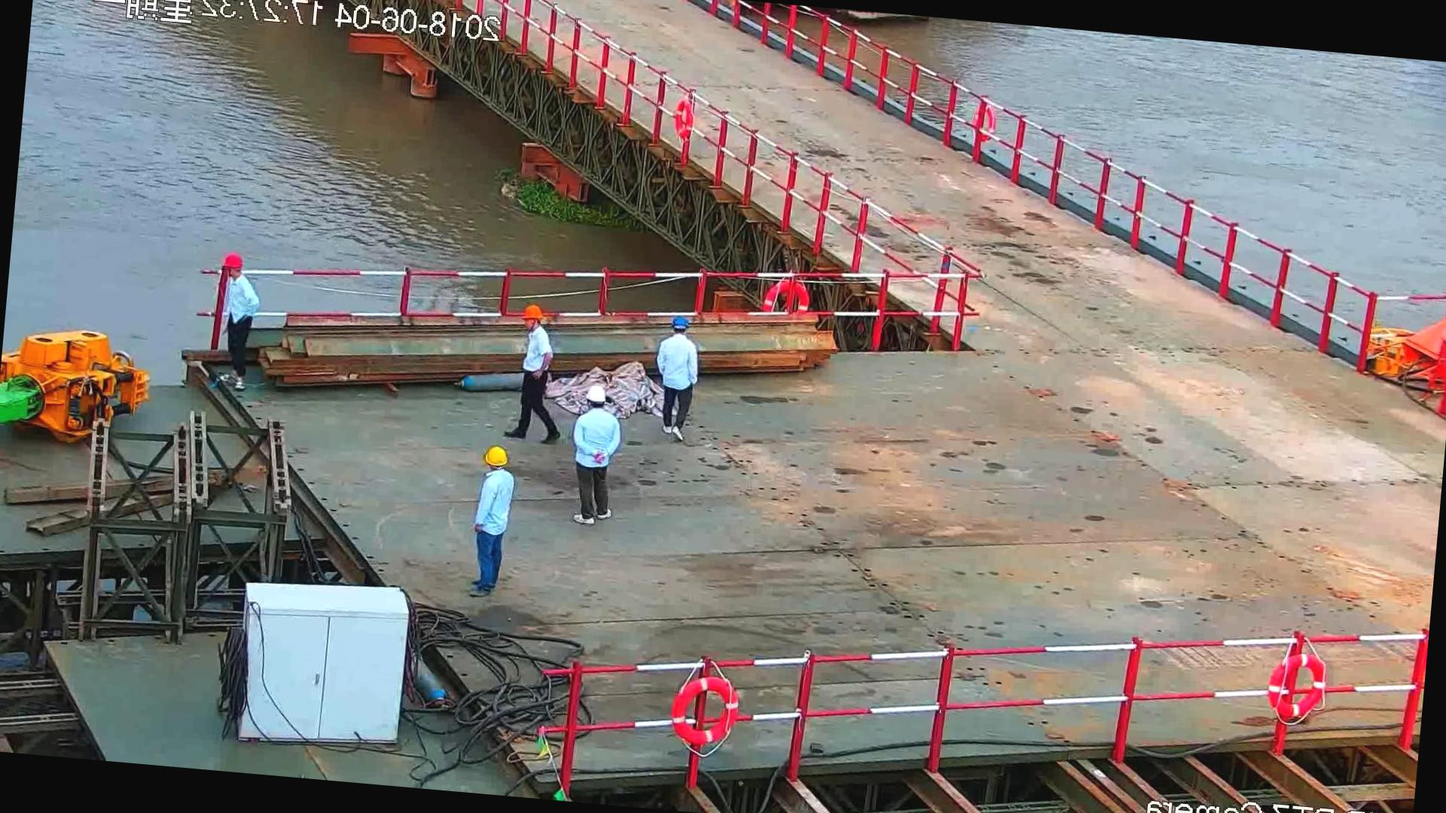helmet: (475, 441, 516, 473), (515, 302, 553, 329), (215, 246, 246, 279), (667, 307, 699, 335)
no_vest: (565, 403, 622, 483), (464, 468, 520, 548), (651, 327, 699, 410), (514, 327, 557, 396)
person: (497, 297, 571, 449), (457, 443, 524, 604), (560, 374, 627, 533), (647, 307, 709, 443), (207, 250, 265, 393)
